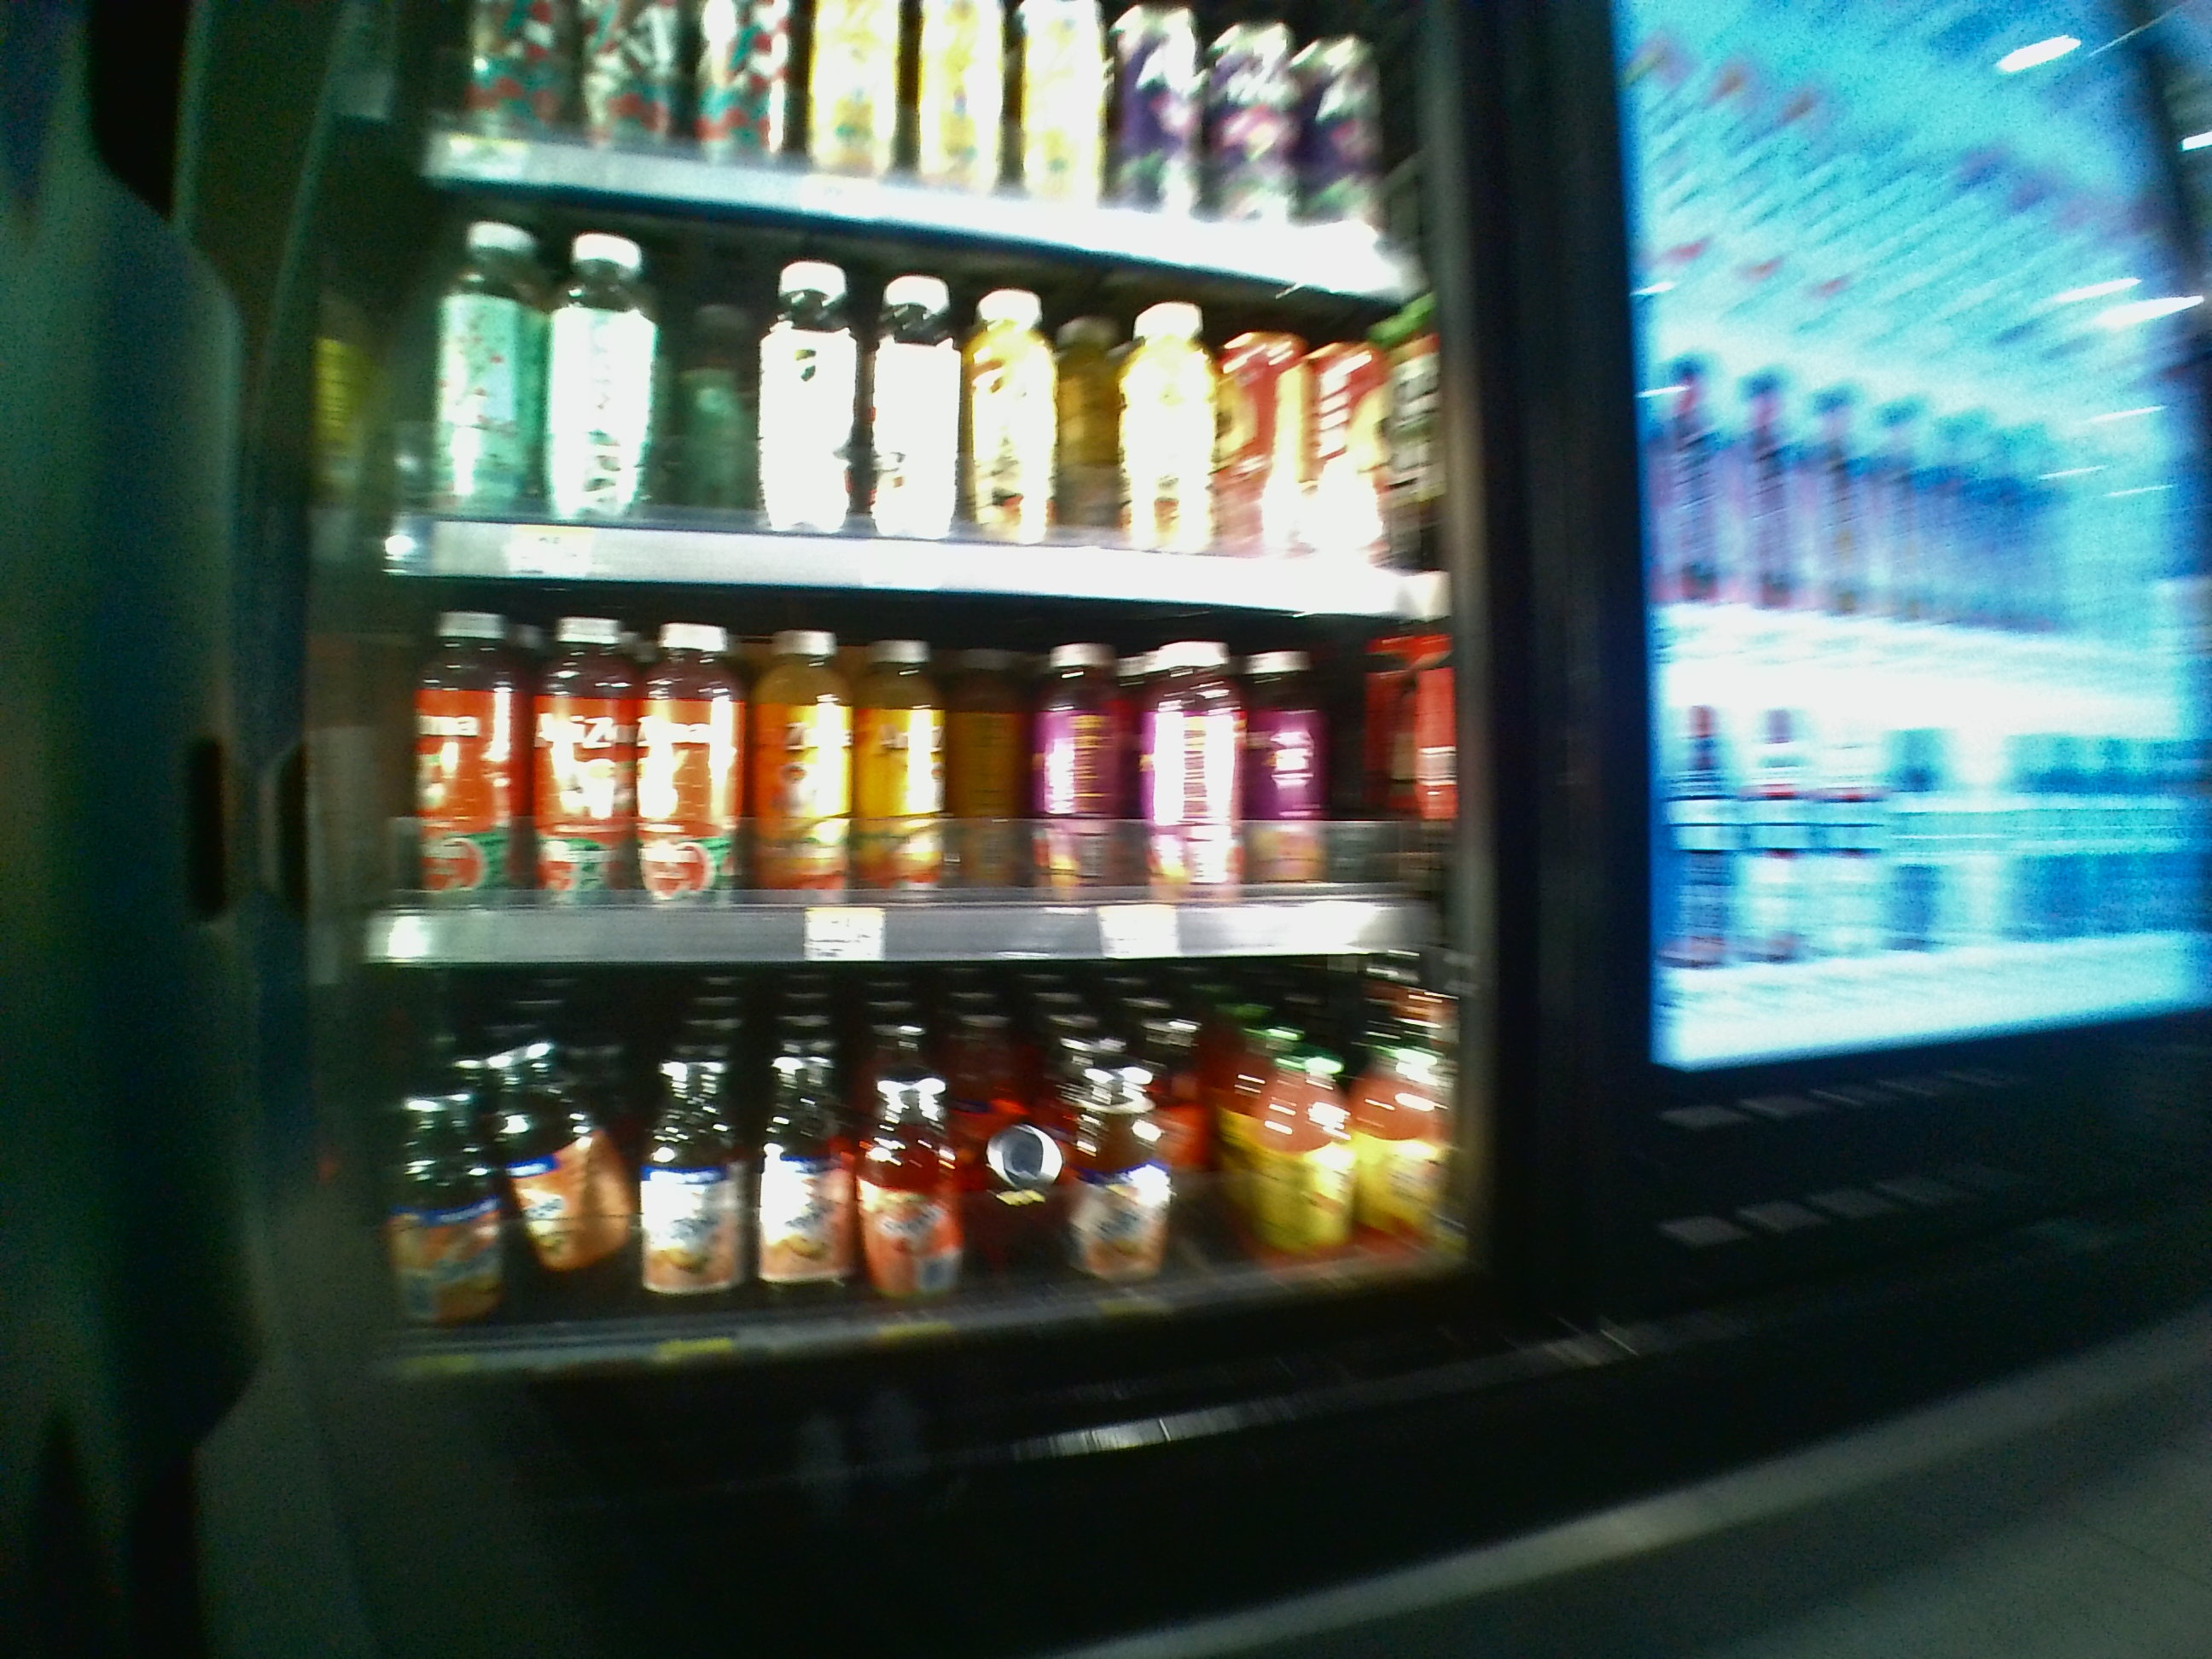shelf: (361, 575, 1456, 964)
